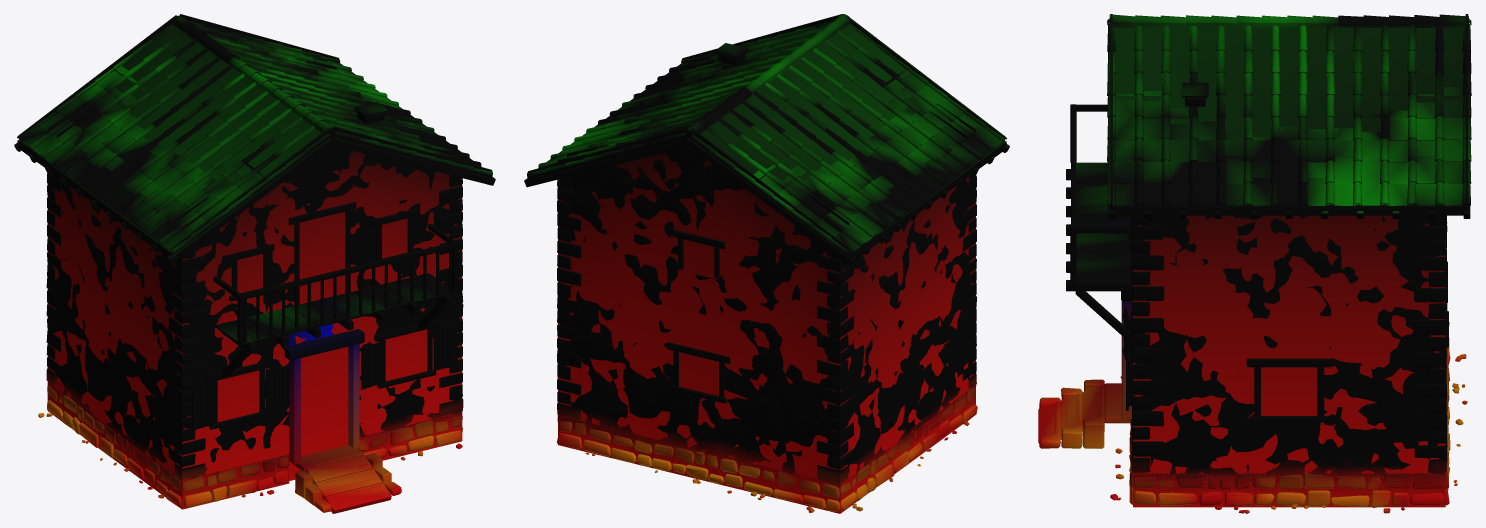
Rendered from valdora_t3_upper.glb.
3 views of the same model, side by side, from view 1: azimuth 30°, elevation 25°; view 2: azimuth 150°, elevation 25°; view 3: azimuth 270°, elevation 25° (orthographic). The views are drawn at different scales.
Parts seen in each view (by area): view 1: valdora_t3_upper_shell, valdora_t3_upper_far, valdora_t3_upper_detail; view 2: valdora_t3_upper_shell, valdora_t3_upper_far, valdora_t3_upper_detail; view 3: valdora_t3_upper_shell, valdora_t3_upper_far, valdora_t3_upper_detail.
Part boxes in pixels (x1,y1,x2,y2): valdora_t3_upper_shell: (14,14,495,513); valdora_t3_upper_far: (47,24,462,501); valdora_t3_upper_detail: (38,102,462,505); valdora_t3_upper_shell: (524,14,1009,513); valdora_t3_upper_far: (558,24,975,511); valdora_t3_upper_detail: (585,43,969,512); valdora_t3_upper_shell: (1038,14,1471,507); valdora_t3_upper_far: (1114,25,1463,504); valdora_t3_upper_detail: (1044,82,1467,513).
Size of the model in its own units: 6.99 by 7.34 by 6.93.
